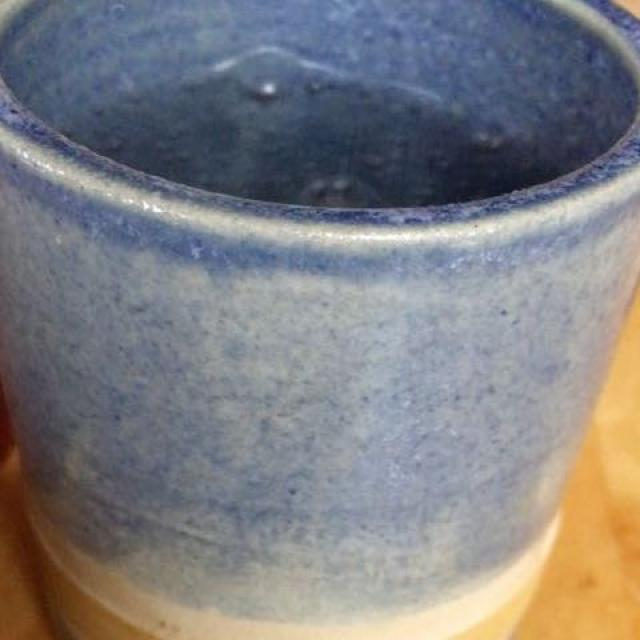water-mineral: (54, 59, 566, 226)
